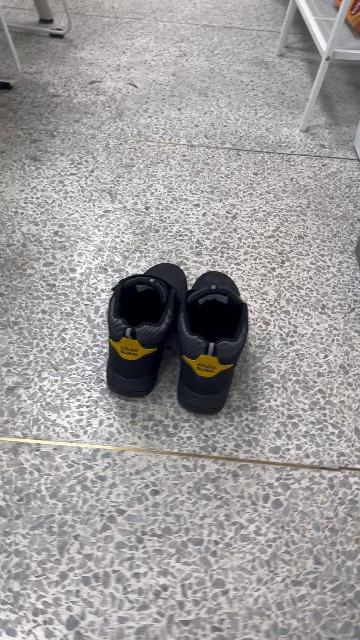shoe_worn: (102, 262, 192, 403), (182, 267, 248, 418)
